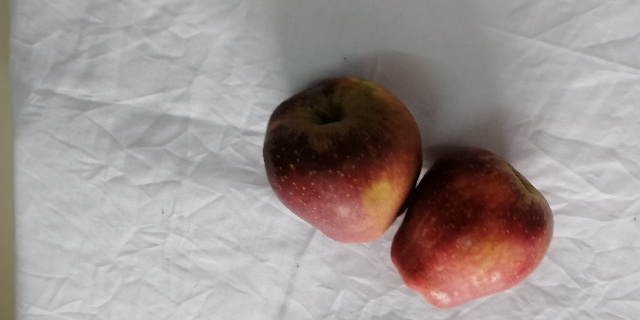apple_kashmir: (392, 138, 553, 310), (261, 82, 427, 243)
